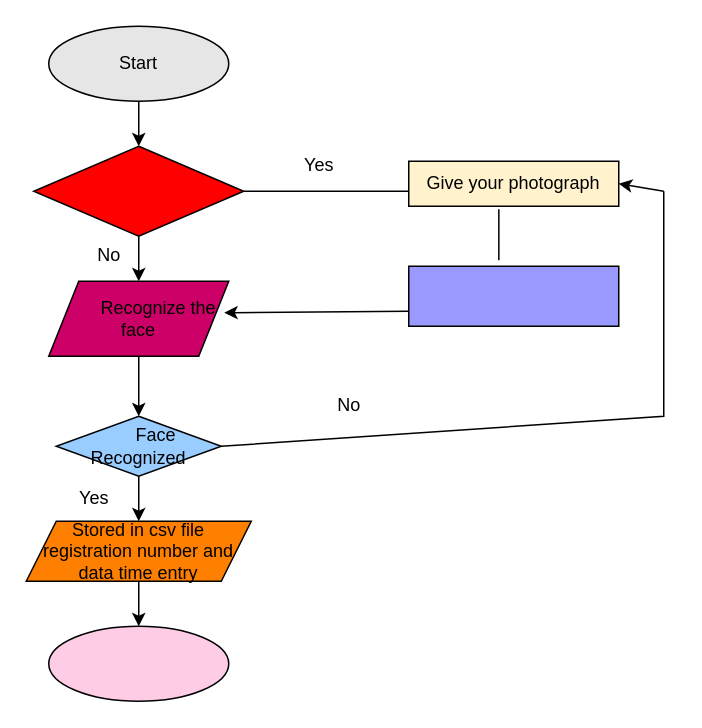
Image size: 702x728. Some labels were removed from this diagram. The shapes that lost their labels are listed below. From the top down, each one's centre as x and y in pixels, then its label:
At pixel 138 190: "New usre?".
At pixel 513 295: "Store the face data on folder in your name".
At pixel 138 663: "End".
